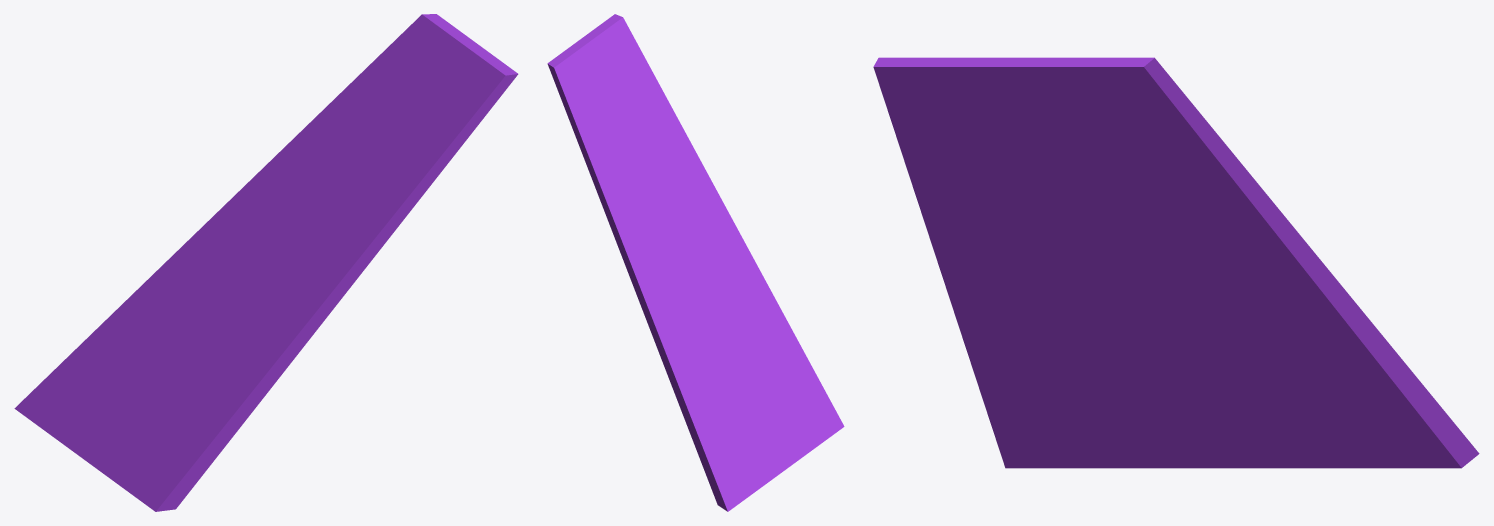
File: Window_62.fbx
The picture shows the model from 3 angles, left to right: view 1: azimuth 30°, elevation 25°; view 2: azimuth 150°, elevation 25°; view 3: azimuth 270°, elevation 25°; orthographic projection. The views are drawn at different scales.
Parts seen in each view (by area): view 1: Window_62; view 2: Window_62; view 3: Window_62.
Part boxes in pixels (x1,y1,x2,y2): Window_62: (14,14,518,511); Window_62: (547,14,844,511); Window_62: (873,57,1479,468).
Bounding box in the file's own units: 824 × 960 × 818.
